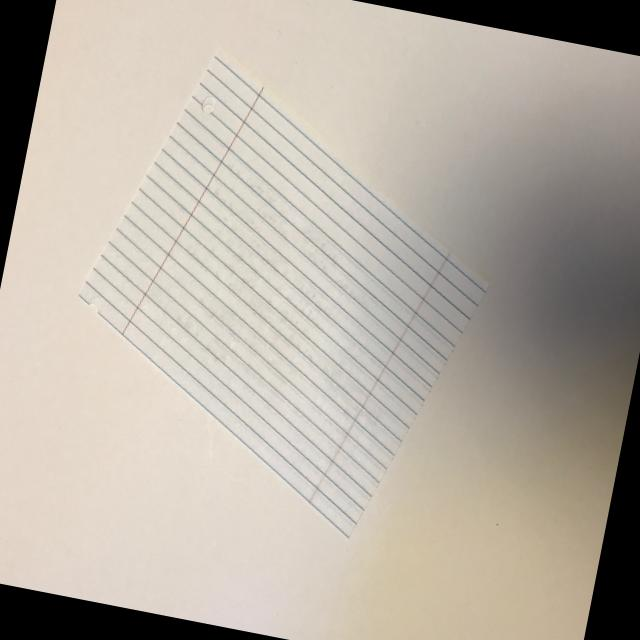Paper: (42, 36, 522, 554)
